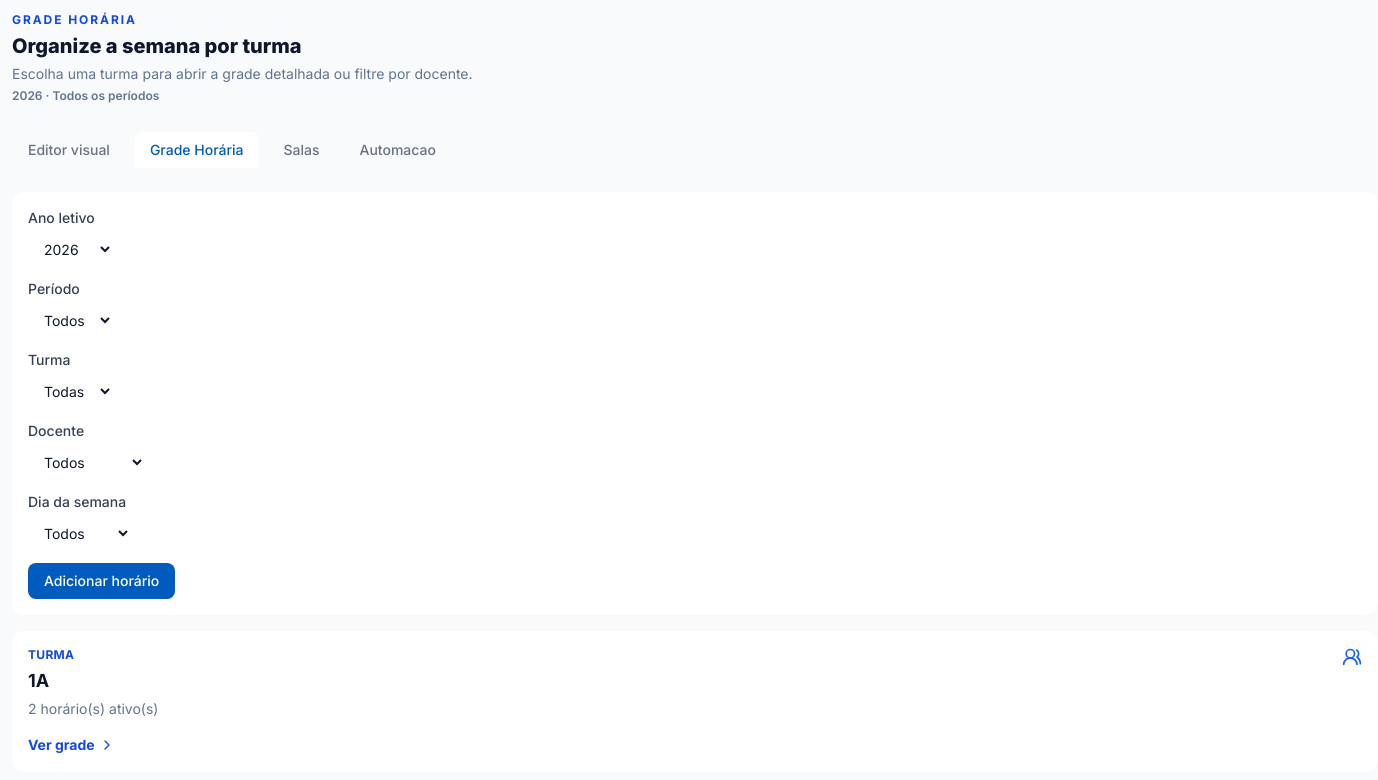
Test: TimetableTab › filtra por dia da semana
The image size is (1378, 780).
Select "Terça" in the dropdown labelled "Dia da semana": {"x": 80, "y": 534} [28,516,131,551]
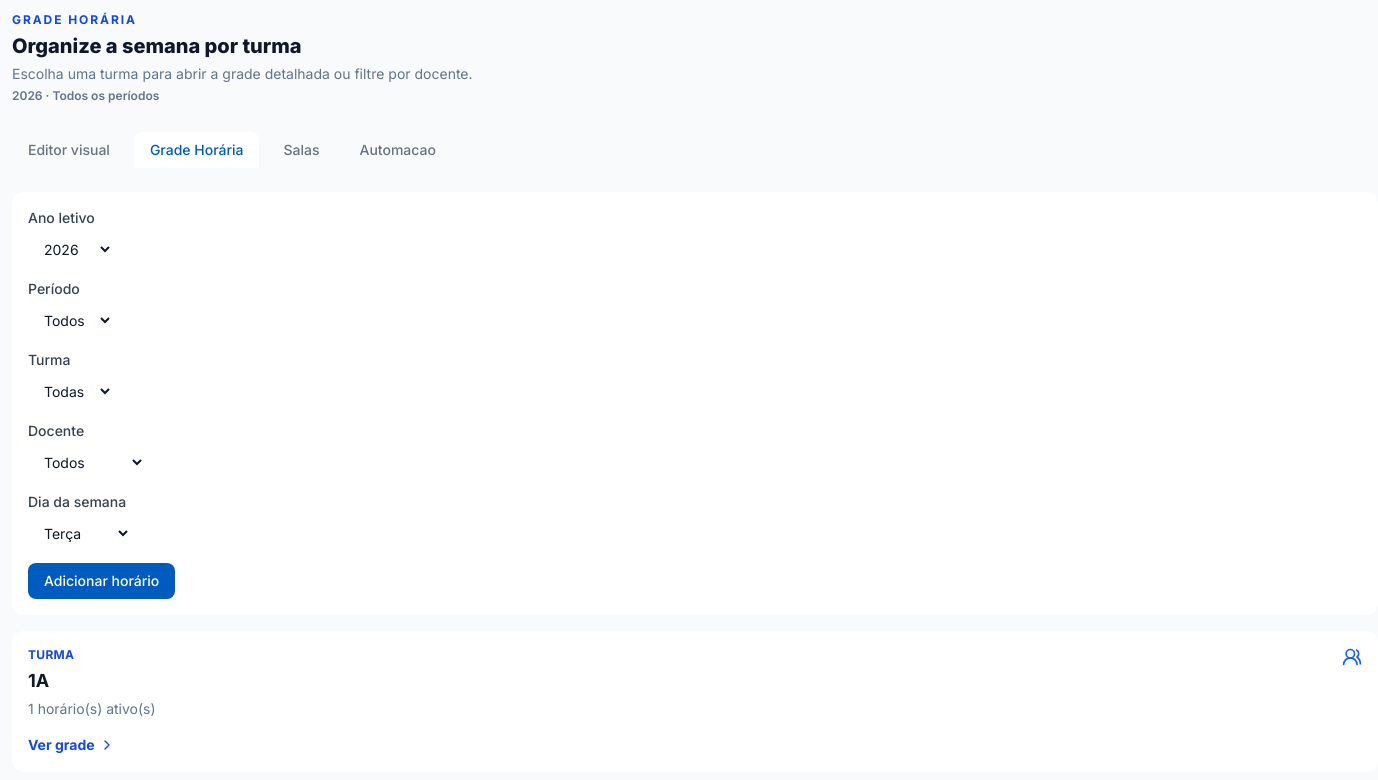
Click the button "Ver grade": {"x": 71, "y": 745} [28,735,115,755]
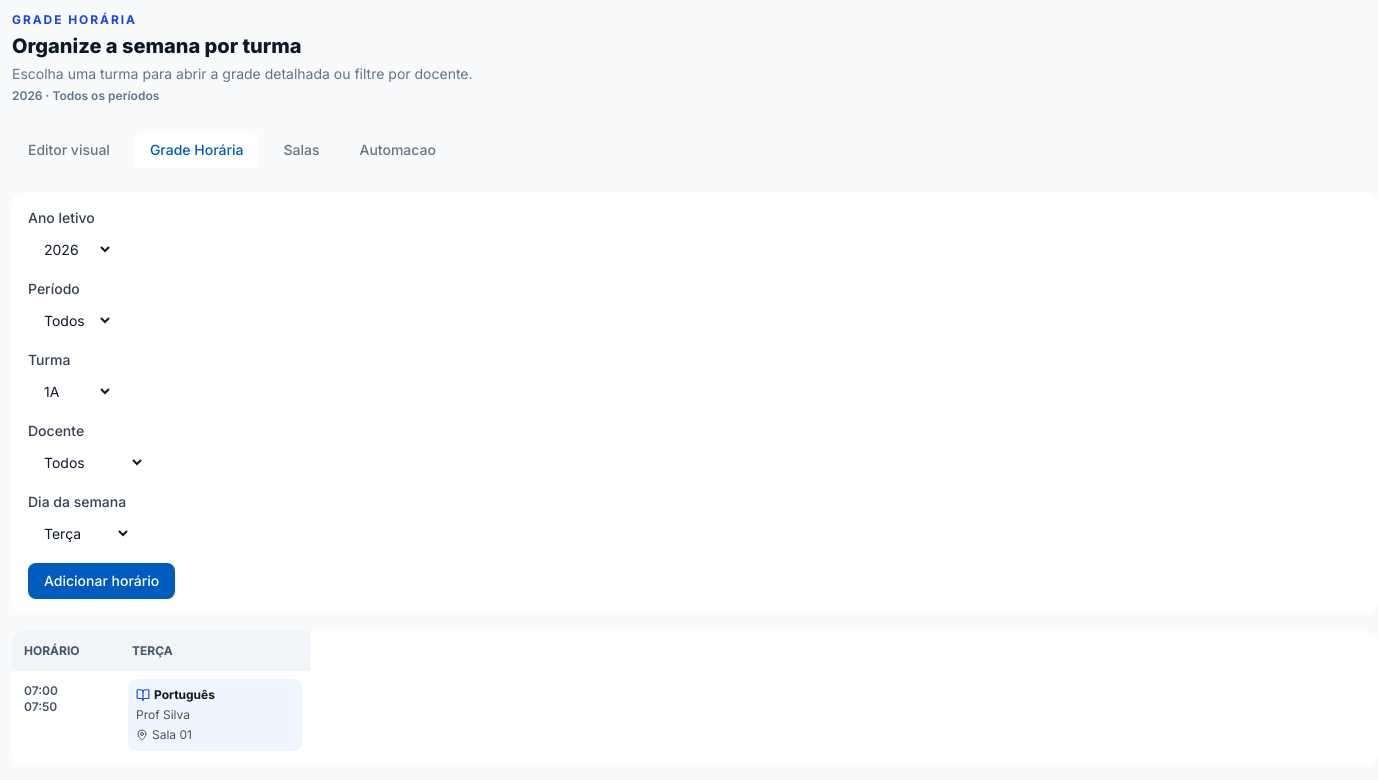
Check: the text "Português" is shown, box [136,687,215,702]
